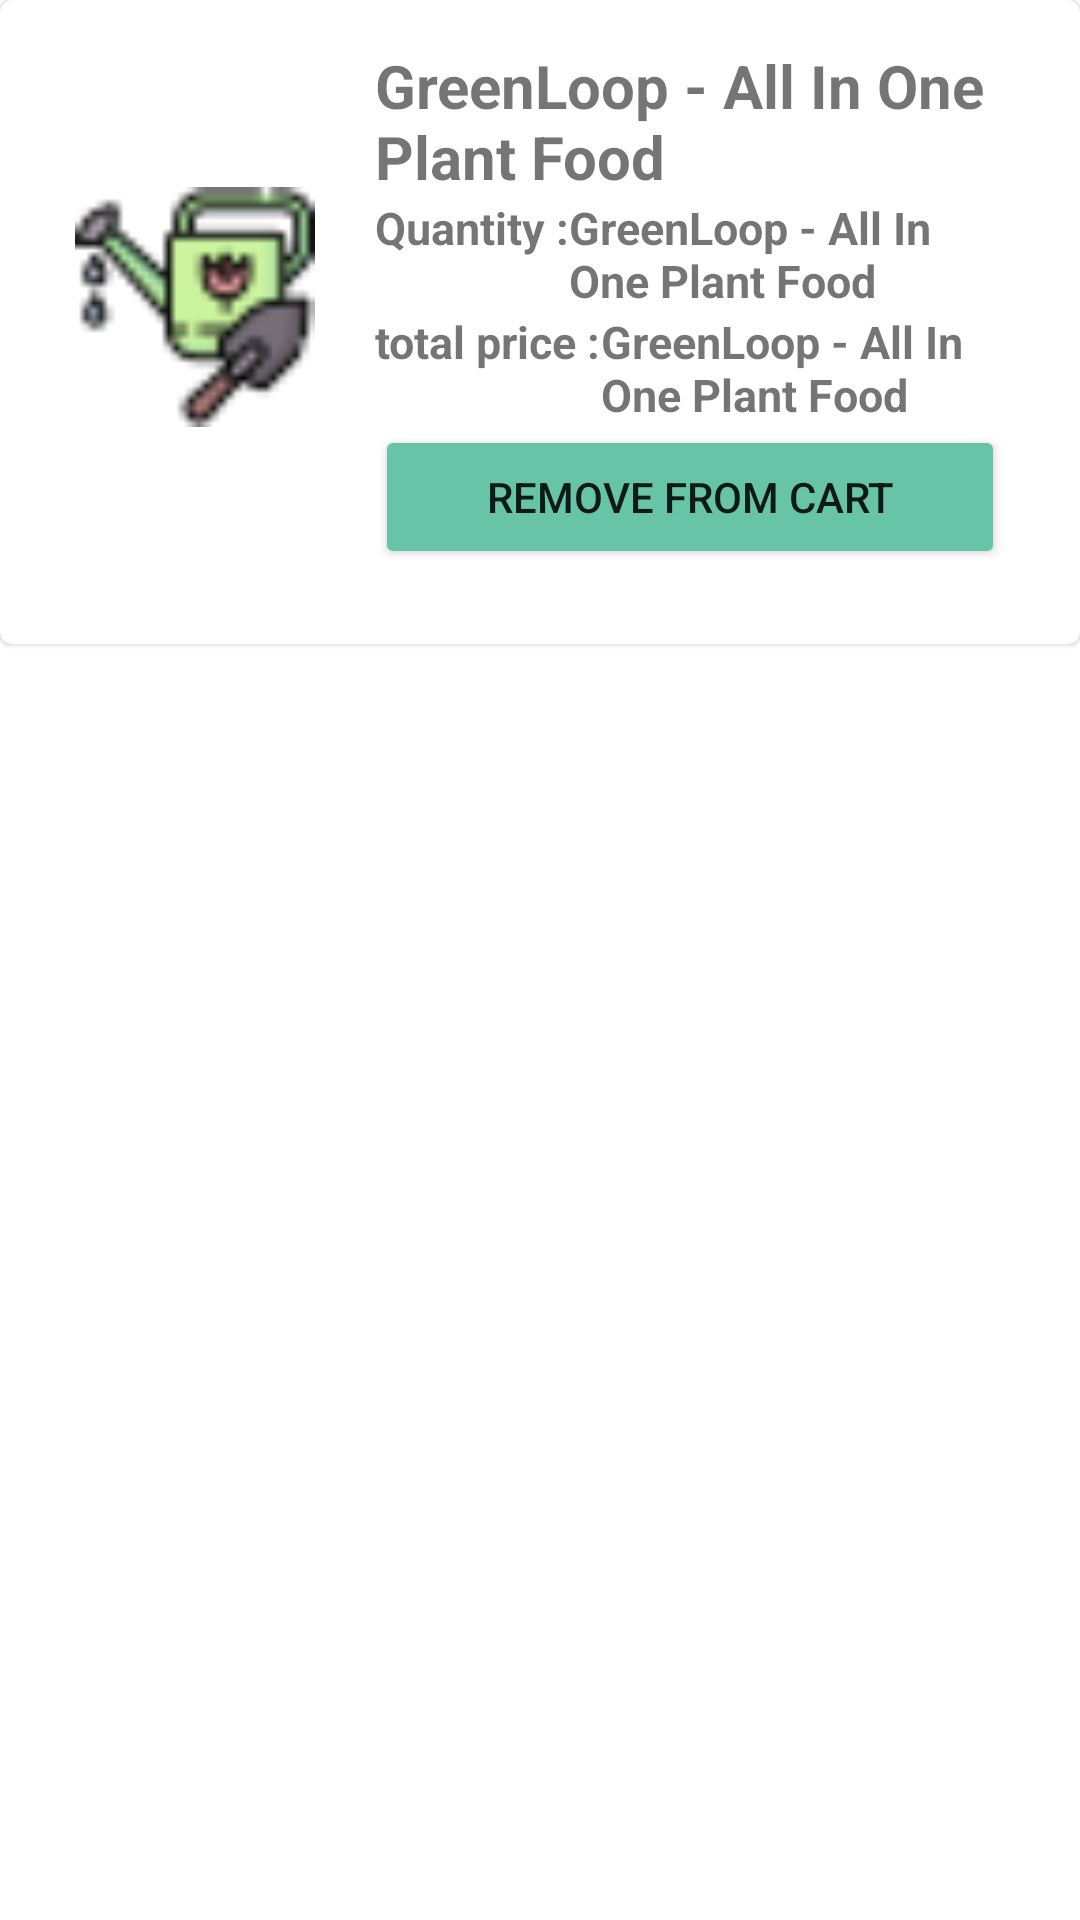

Icons on this 1080*1920 Android screen, each with its box as (left=x1, top=y1, right=x2, bottom=y2):
gardening: (left=75, top=187, right=315, bottom=427)
